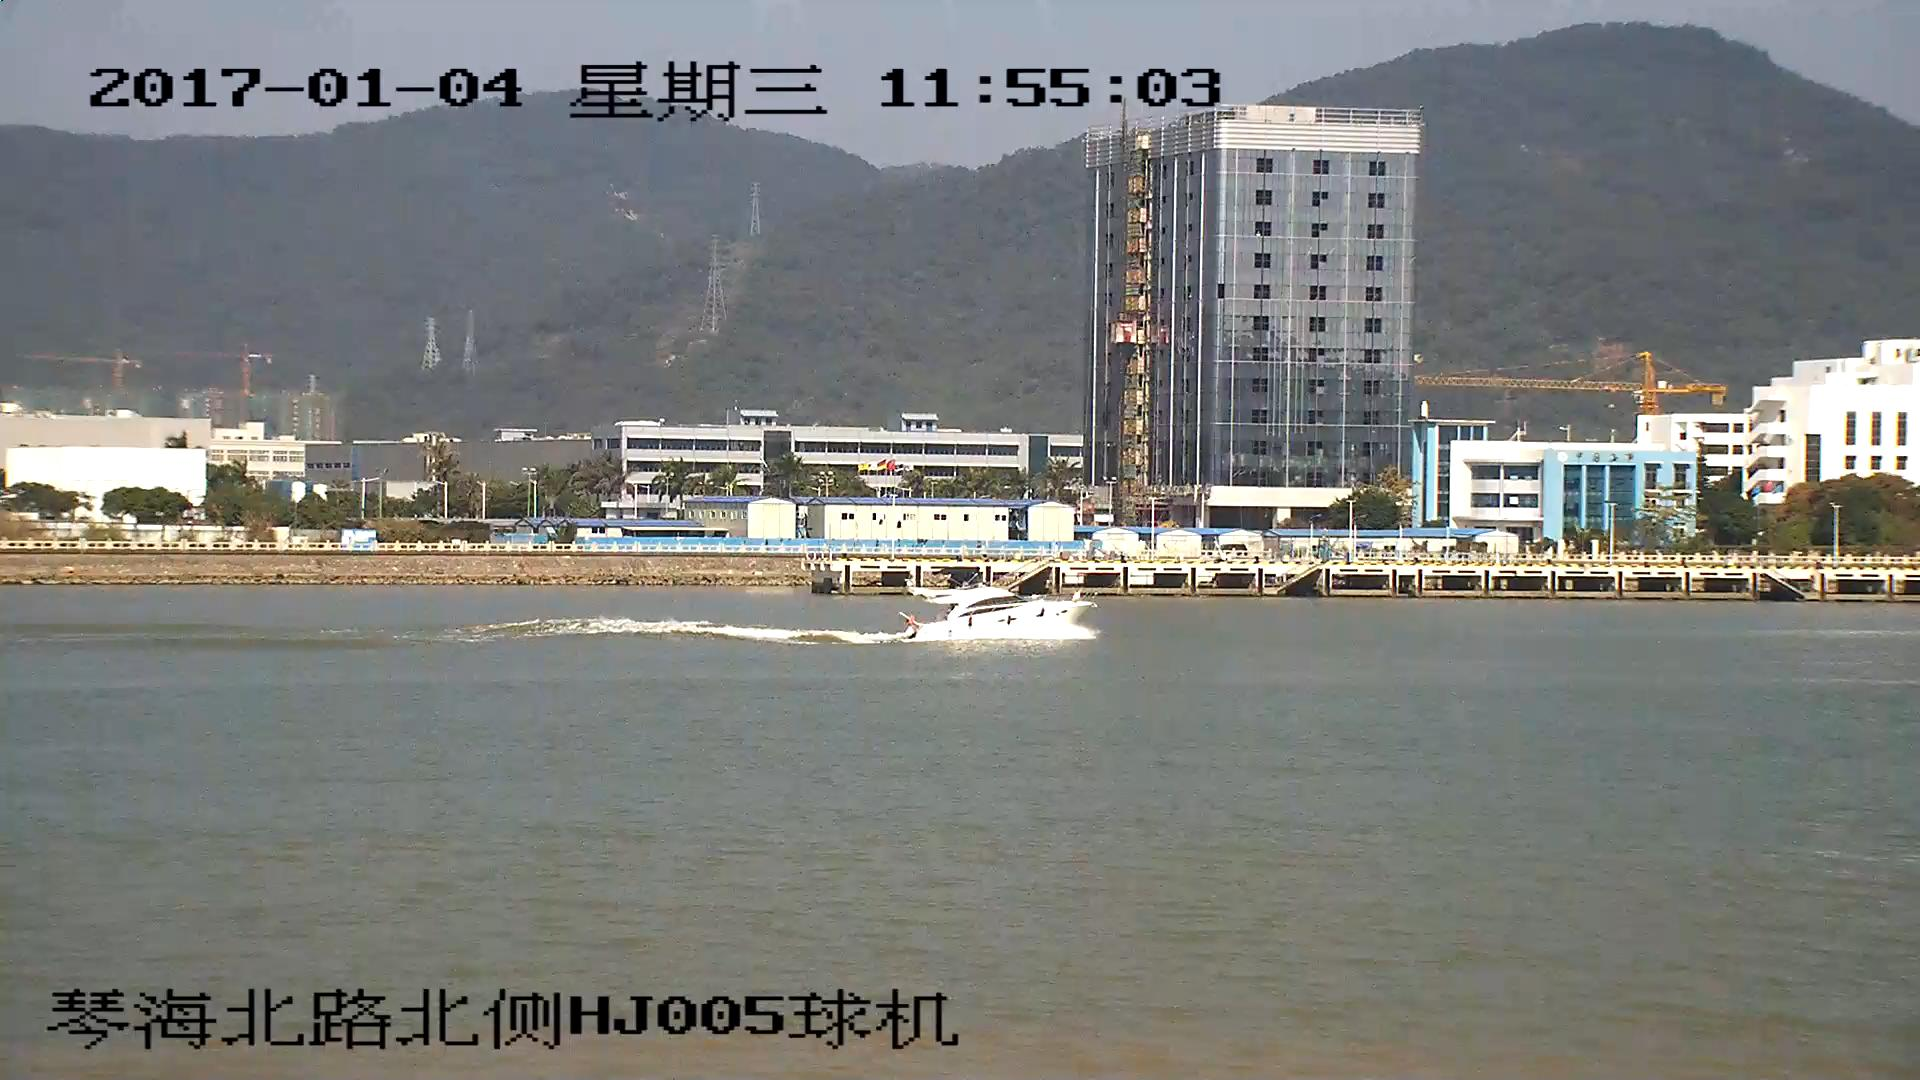passenger ship: (900, 566, 1088, 638)
